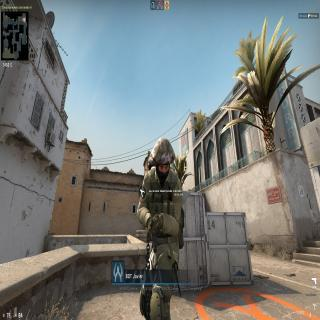CT-Head: (146, 134, 176, 182)
